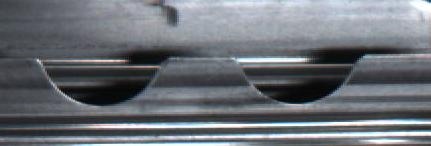twou: (38, 46, 360, 112)
